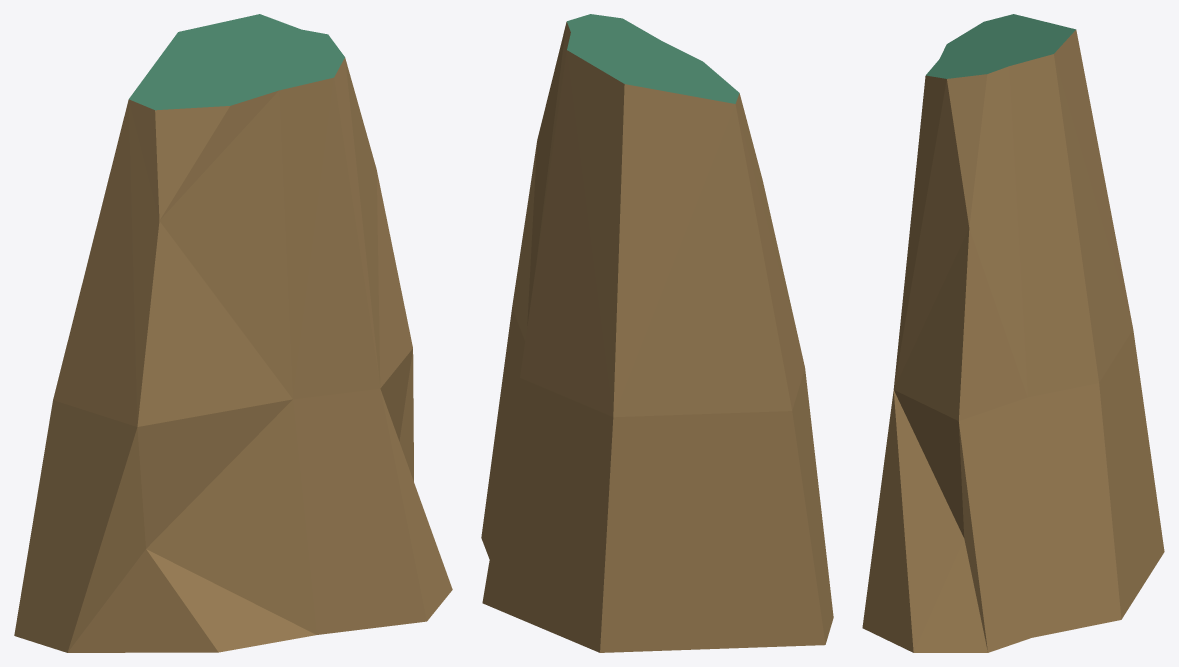
Rendered from Rock_Large_Mesa_Eroded_Moss_Grass_03.FBX.
3 views of the same model, side by side, from view 1: azimuth 30°, elevation 25°; view 2: azimuth 150°, elevation 25°; view 3: azimuth 270°, elevation 25° (orthographic). The views are drawn at different scales.
Parts seen in each view (by area): view 1: Rock_Large_Mesa_Eroded_Moss_Grass_03; view 2: Rock_Large_Mesa_Eroded_Moss_Grass_03; view 3: Rock_Large_Mesa_Eroded_Moss_Grass_03.
Boxes of the visible parts, x1,y1,x2,y2 form: Rock_Large_Mesa_Eroded_Moss_Grass_03: (14,14,452,652); Rock_Large_Mesa_Eroded_Moss_Grass_03: (481,14,833,652); Rock_Large_Mesa_Eroded_Moss_Grass_03: (862,14,1164,652).
Bounding box in the file's own units: 6726 × 9445 × 4780.
